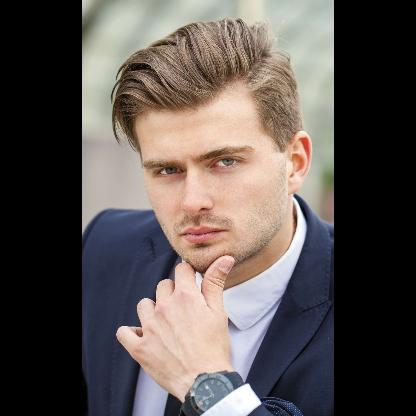Male: (138, 80, 312, 266)
